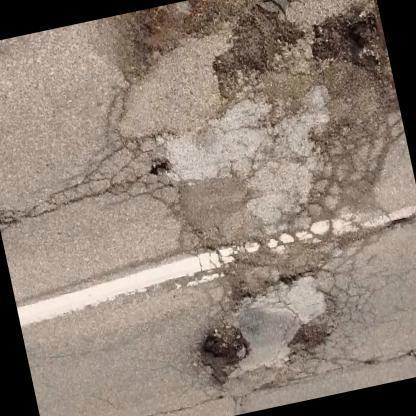pothole: (218, 5, 301, 96), (308, 3, 394, 89), (124, 1, 194, 67), (198, 316, 248, 390), (278, 316, 332, 366)
